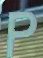Parking: (3, 7, 38, 57)
